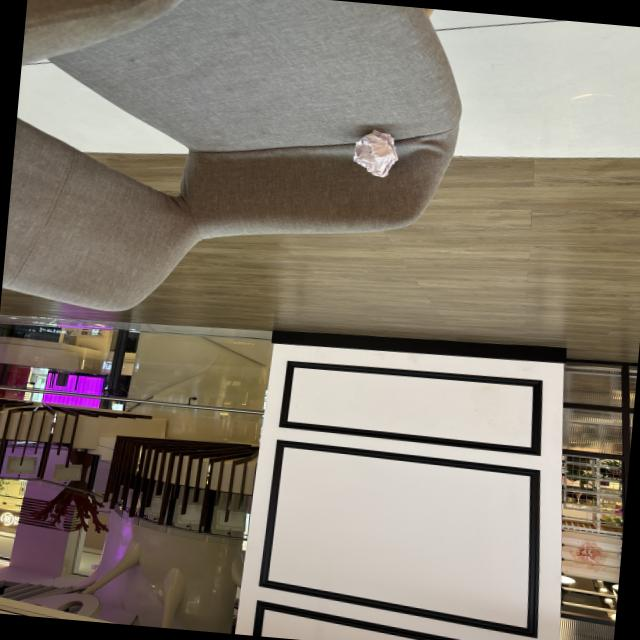crumpled_paper: (348, 124, 402, 180)
